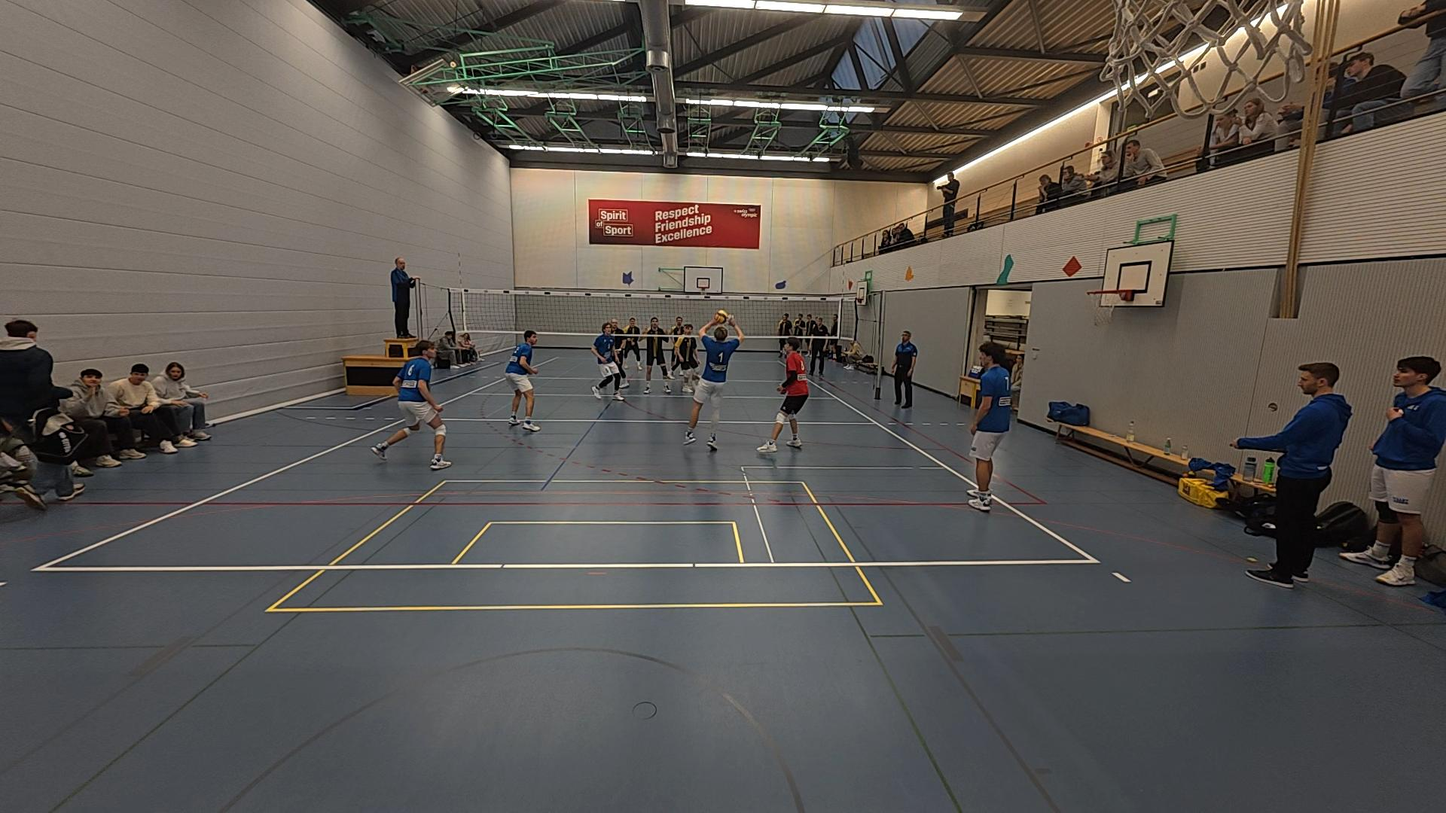Player: (372, 340, 452, 470), (966, 339, 1017, 512), (758, 339, 810, 453), (505, 329, 540, 433), (590, 321, 627, 402), (665, 318, 698, 395), (642, 317, 672, 391), (621, 311, 645, 378), (609, 317, 630, 390), (663, 313, 686, 378)
Receive: (686, 312, 743, 449)
ball: (901, 265, 916, 280), (715, 309, 732, 321)
